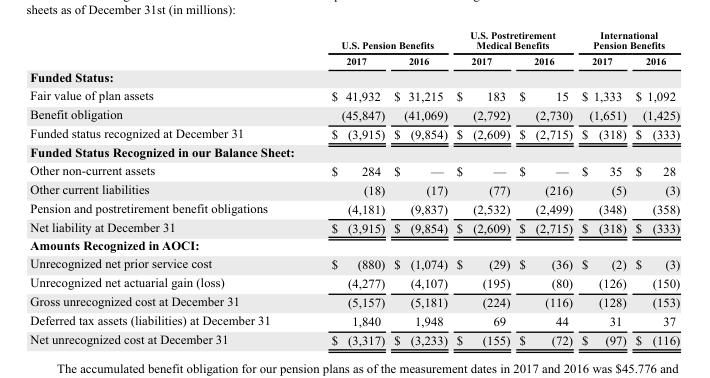table: (29, 28, 679, 346)
table column: (29, 28, 300, 346), (300, 28, 388, 346), (388, 28, 451, 346), (513, 28, 576, 346), (451, 28, 513, 346), (576, 28, 630, 346), (630, 28, 679, 346)
table column header: (29, 28, 679, 68)
table projected row header: (29, 142, 679, 160), (29, 236, 679, 254), (29, 68, 679, 85)
table row: (29, 28, 679, 52), (29, 85, 679, 104), (29, 104, 679, 123), (29, 123, 679, 142), (29, 160, 679, 179), (29, 179, 679, 198), (29, 198, 679, 217), (29, 217, 679, 236), (29, 254, 679, 273), (29, 291, 679, 310), (29, 310, 679, 329), (29, 142, 679, 160), (29, 236, 679, 254), (29, 273, 679, 291), (29, 68, 679, 85), (29, 329, 679, 346), (29, 52, 679, 68)
table spanning cell: (300, 28, 451, 52), (451, 28, 576, 52), (576, 28, 679, 52)
